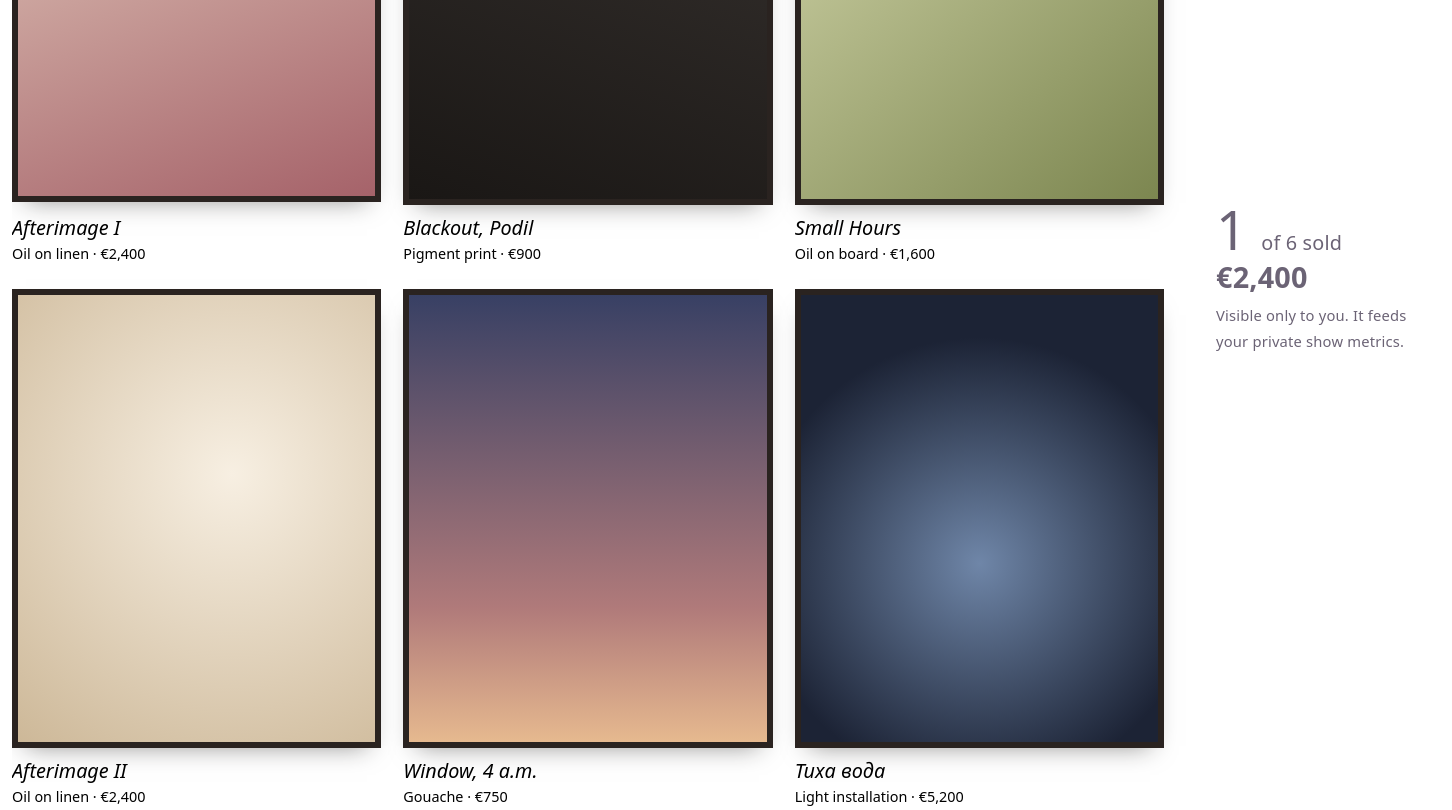
audience page demos › sold wall: a red dot counts the work and its price
(page scrolled)
Expected: the text "€2,400" is shown, [1216,257,1308,296]
Step 1. Click the button "Тиха вода Light installation · €5,200" → [979, 549], box [795,289,1164,809]
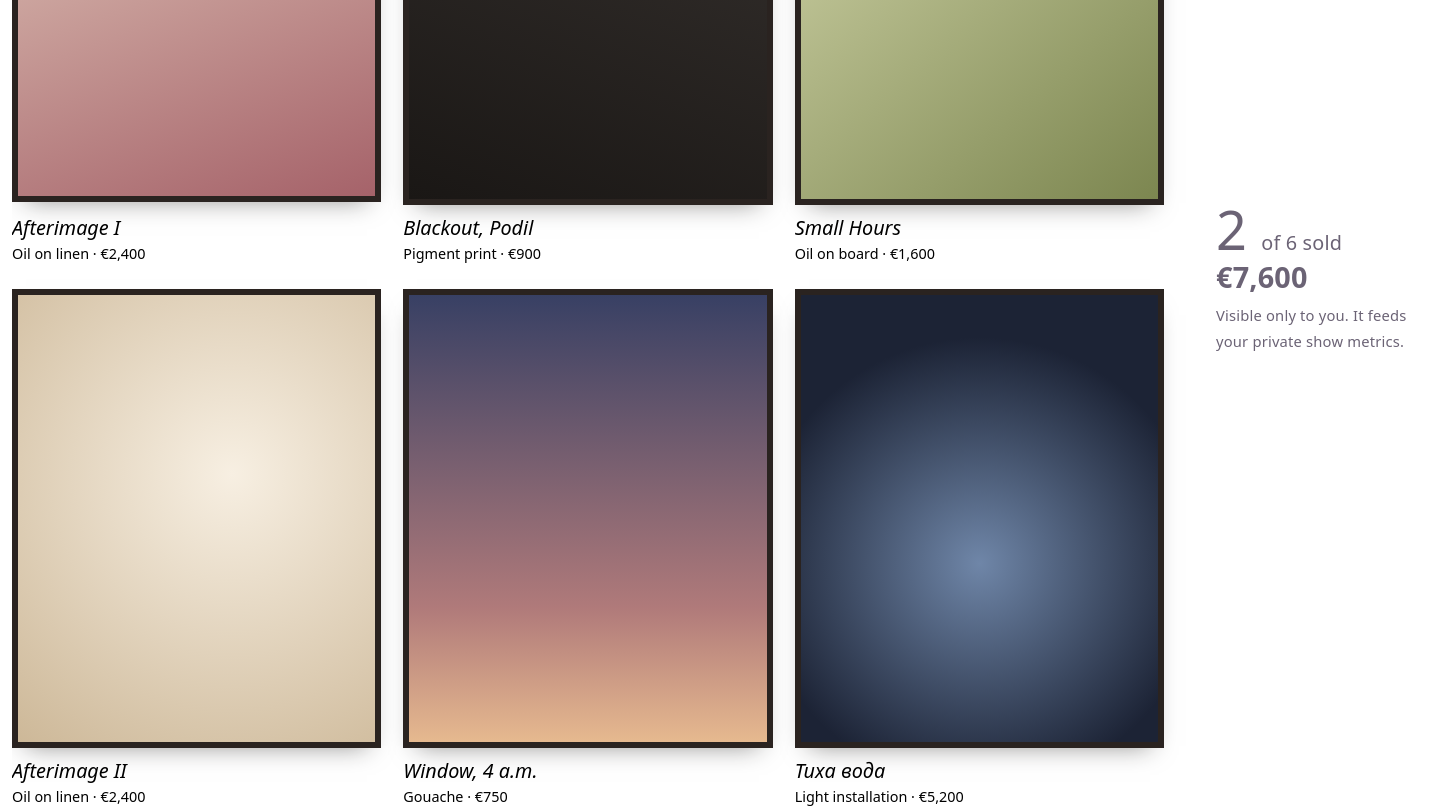
Now the text "€7,600" is shown, box [1216,257,1308,296]
Now the element showing "2 of 6 sold" is shown, box [1216,192,1342,266]
